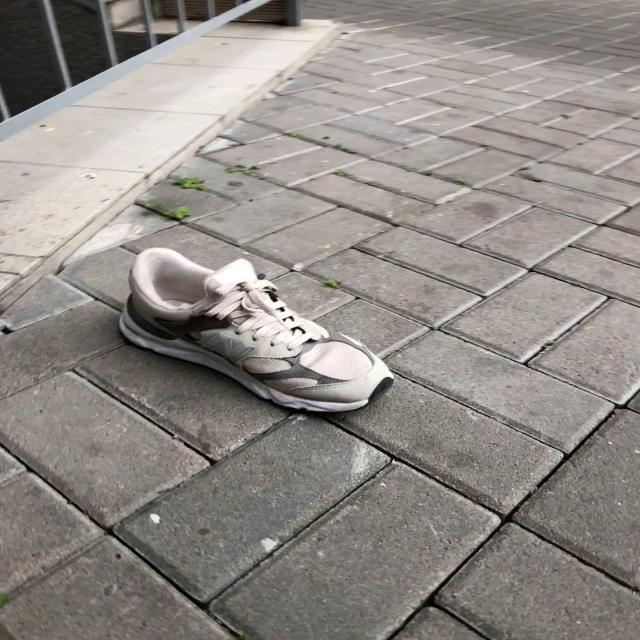shoe: (118, 248, 390, 413)
